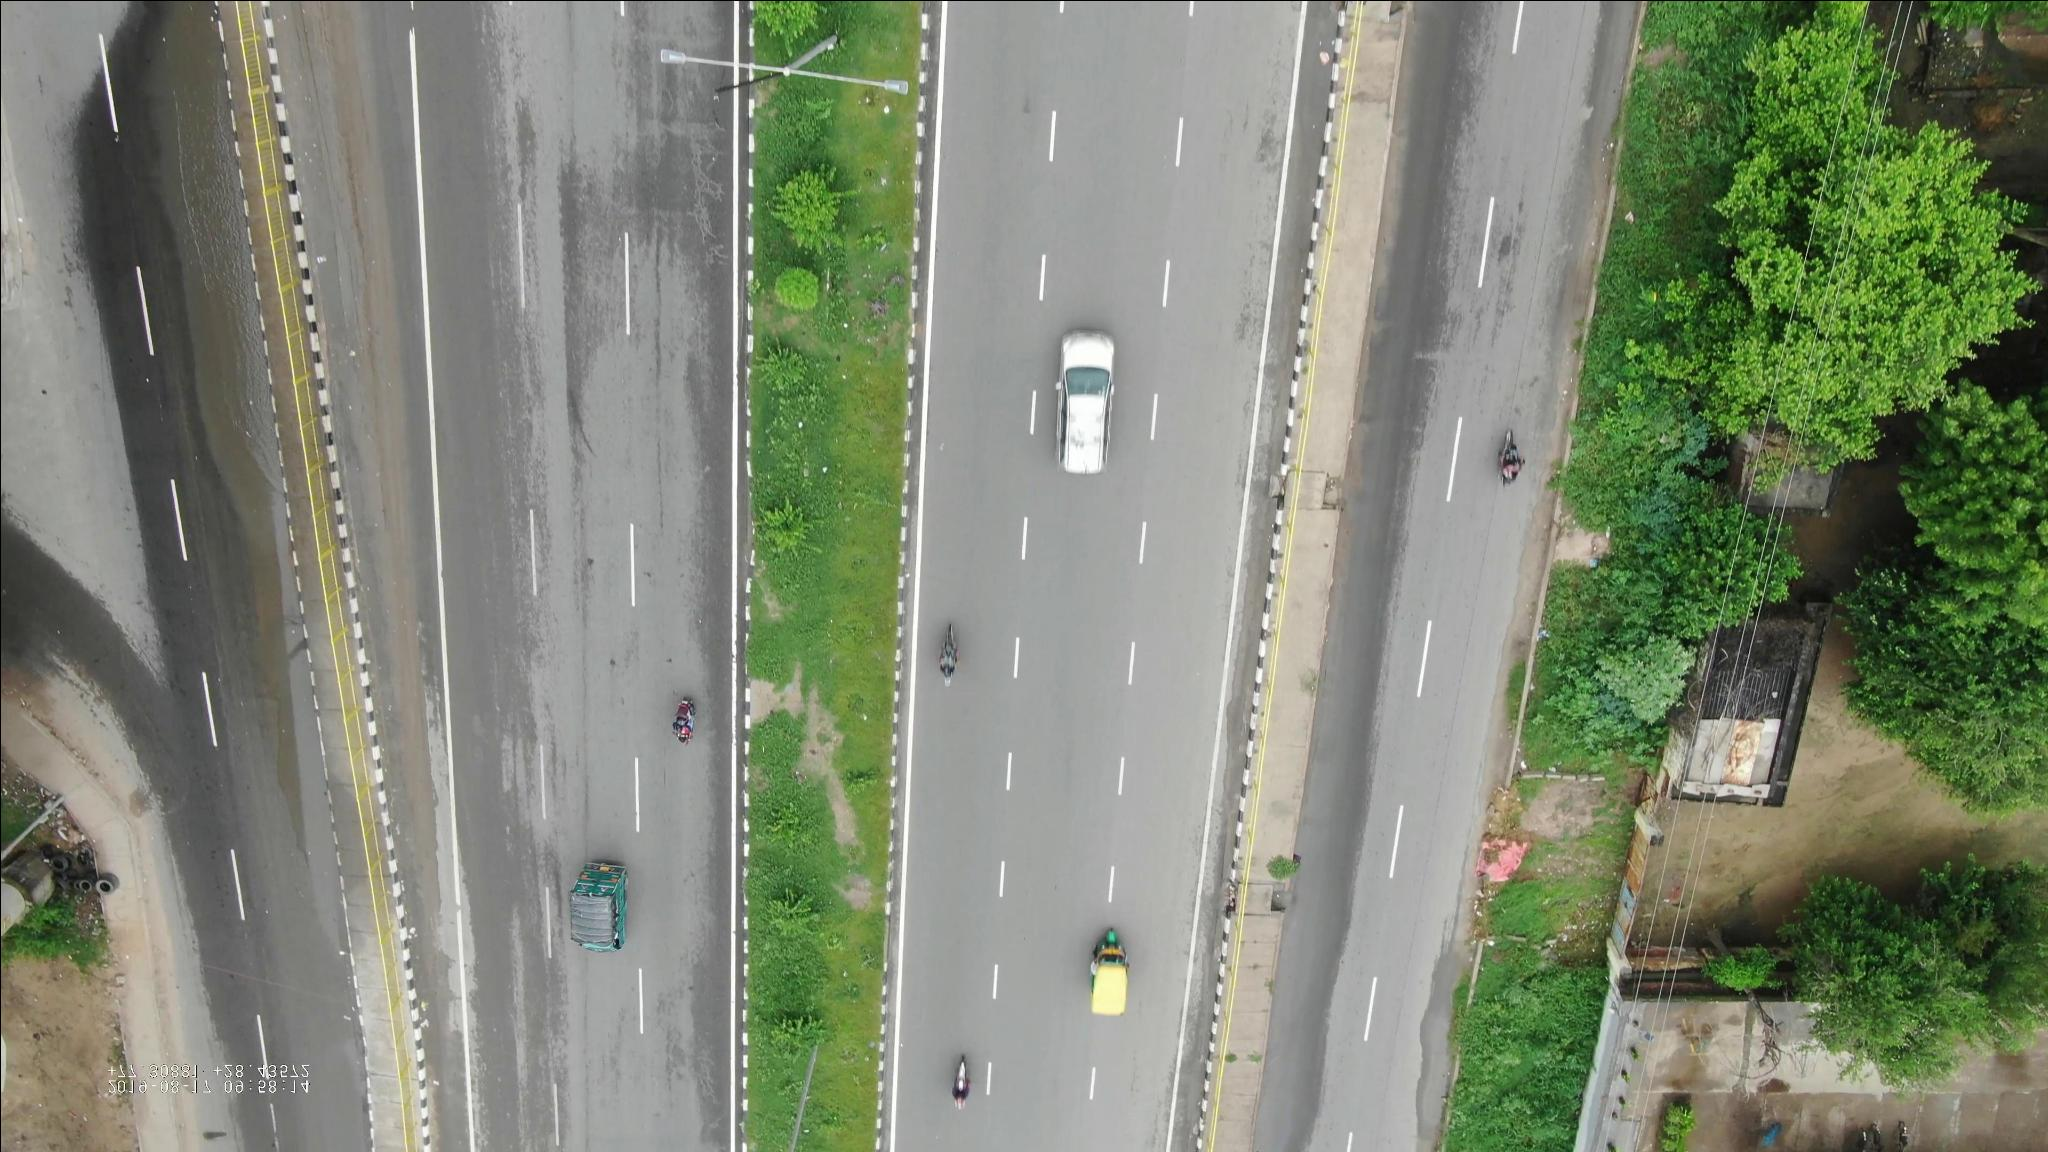Waterlogging: (148, 205, 302, 693), (1401, 942, 1474, 1137)
